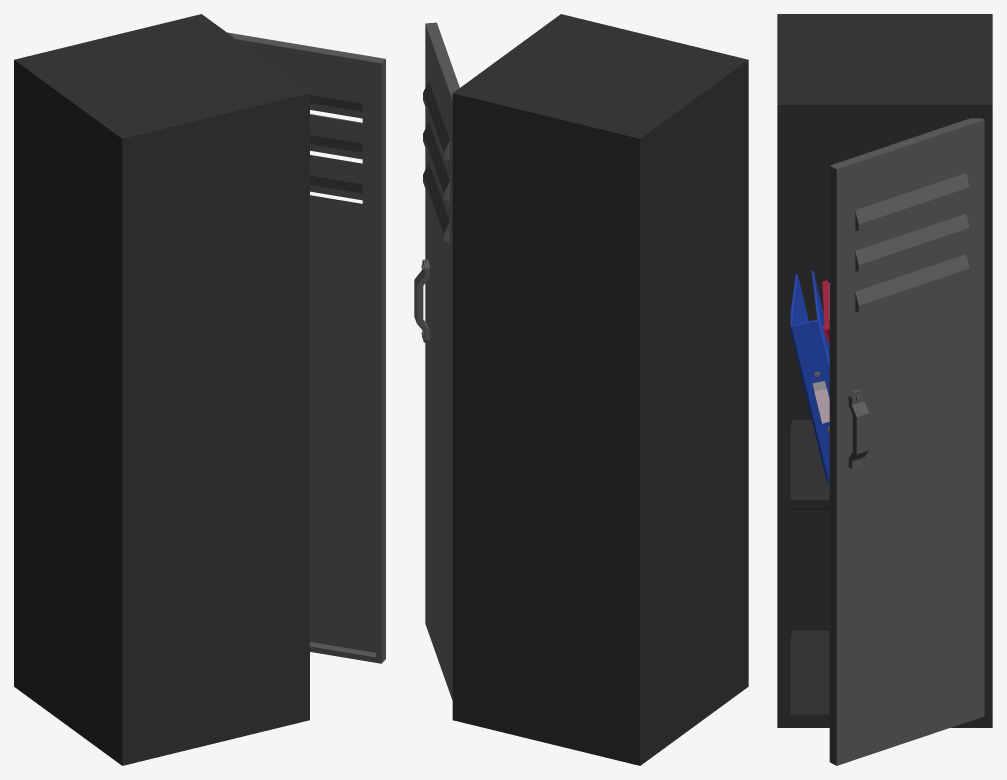
Rendered from OpenLocker.obj.
3 views of the same model, side by side, from view 1: azimuth 30°, elevation 25°; view 2: azimuth 150°, elevation 25°; view 3: azimuth 270°, elevation 25° (orthographic).
Parts seen in each view (by area): view 1: LockerMain_Cube, Door_Cube.001; view 2: LockerMain_Cube, Door_Cube.001; view 3: Door_Cube.001, LockerMain_Cube, Binder_Binder_Cube, Book_Book_Cube.001.
Part boxes in pixels (box(x1,y1,x2,y2)): LockerMain_Cube: box(14, 14, 309, 765); Door_Cube.001: box(227, 32, 385, 663); LockerMain_Cube: box(452, 14, 748, 765); Door_Cube.001: box(414, 22, 459, 700); Door_Cube.001: box(829, 118, 984, 765); LockerMain_Cube: box(777, 14, 992, 727); Binder_Binder_Cube: box(790, 270, 829, 482); Book_Book_Cube.001: box(822, 280, 829, 344).
Bounding box in the file's own units: 0.392 × 0.7984 × 0.2499.
